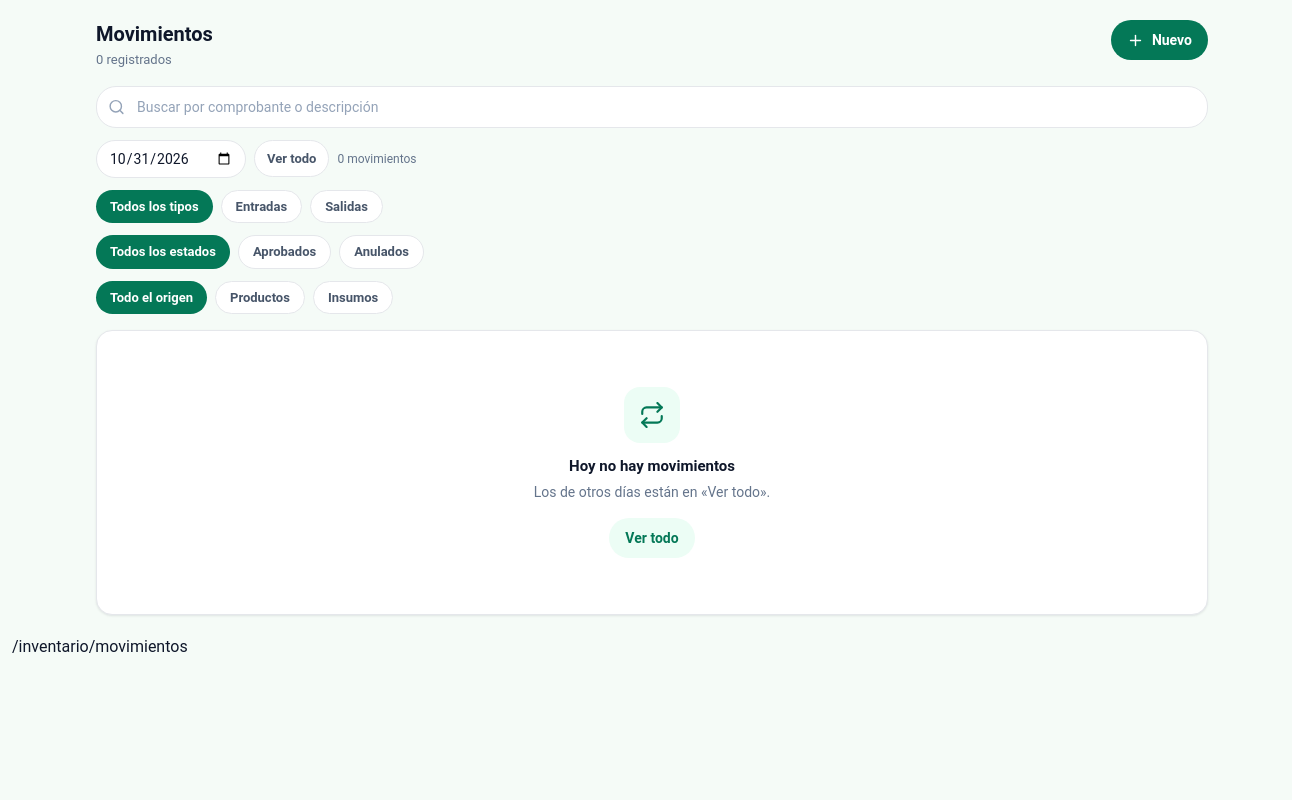
Test: La lista arranca en hoy › si hoy no hubo nada, lo dice y ofrece ver todo en vez de «probá con otro texto»
Expected: the heading "Hoy no hay movimientos" is shown, [569,455,735,478]
Expected: the text "0 registrados" is shown, [96,52,172,67]
What coordinates should you click on to do the following:
click the button "Ver todo" below "Los de otros días están en «Ver todo»."
I would click on:
 (652, 538)
Its box is [609,518,695,558].
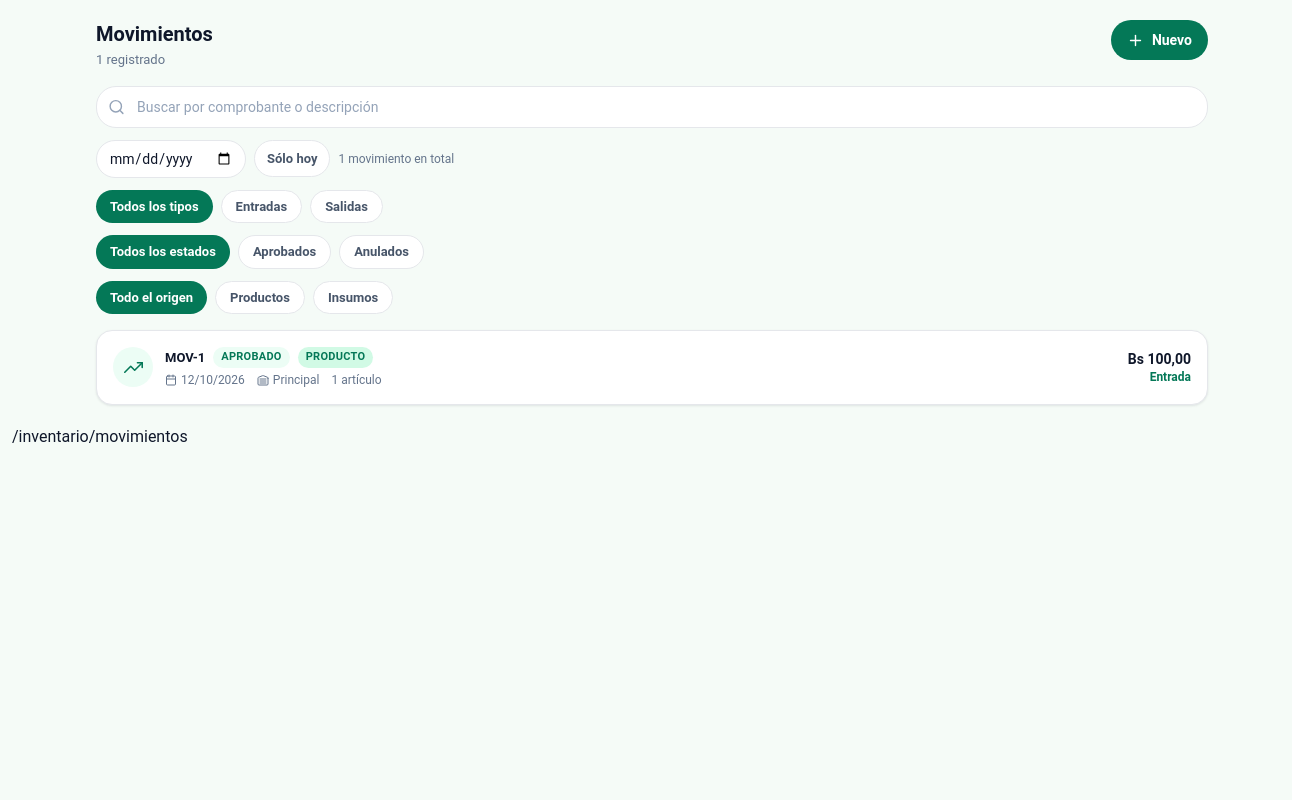
Now the text "MOV-1" is shown, box [165,348,205,367]
Now the text "1 registrado" is shown, box [96,52,165,67]
